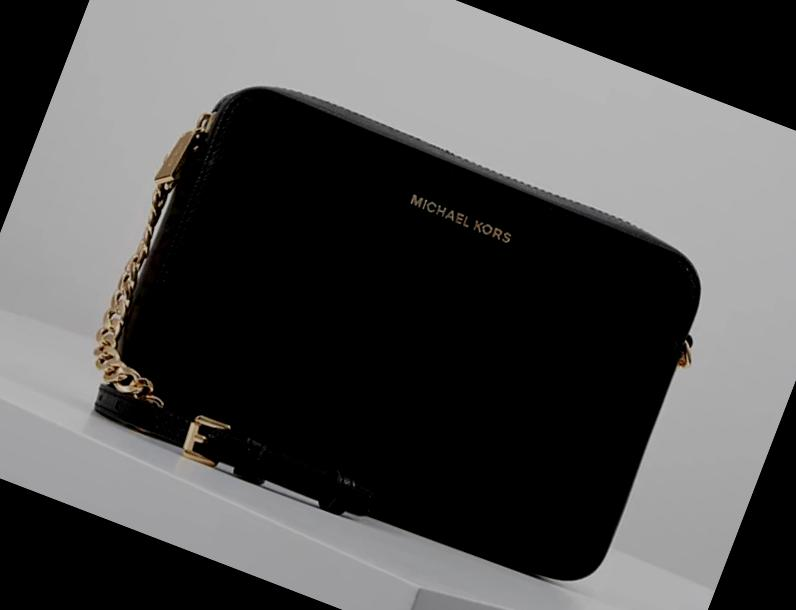MICHAEL-KORS: (408, 194, 512, 245)
